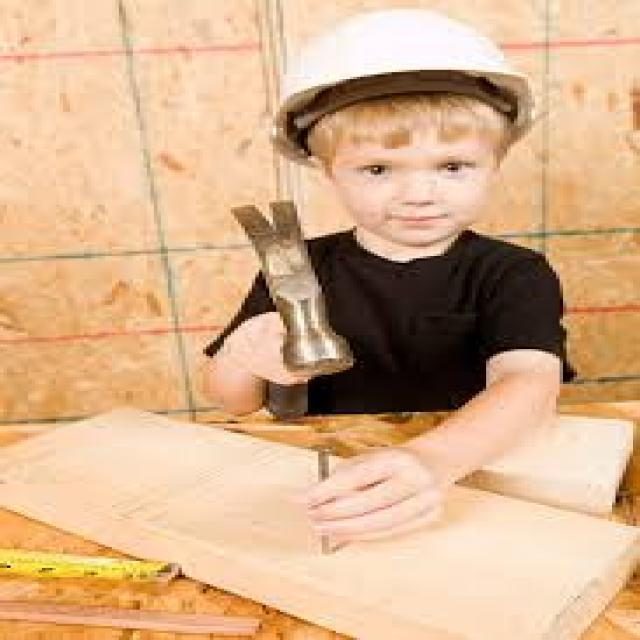hammer: (222, 198, 359, 433)
